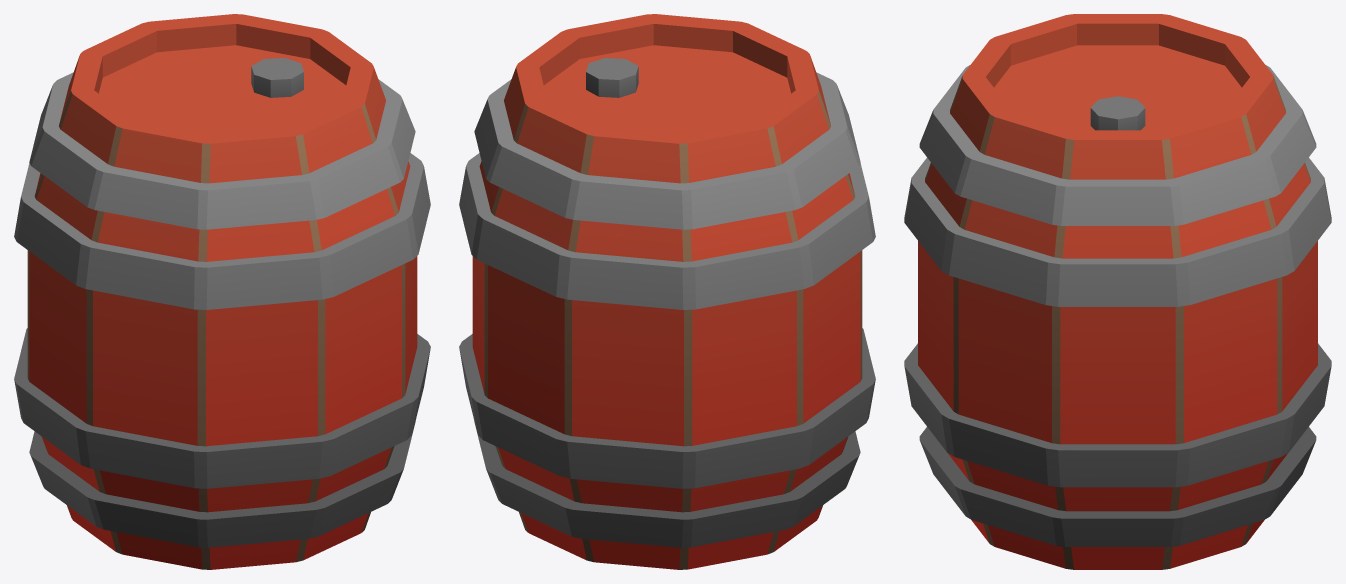
Rendered from barrel-2.glb.
3 views of the same model, side by side, from view 1: azimuth 30°, elevation 25°; view 2: azimuth 150°, elevation 25°; view 3: azimuth 270°, elevation 25° (orthographic).
Visible parts, largest first — view 1: barrel 2; view 2: barrel 2; view 3: barrel 2.
Part boxes in pixels (box(x1,y1,x2,y2)): barrel 2: box(14, 14, 430, 569); barrel 2: box(459, 14, 875, 569); barrel 2: box(904, 14, 1331, 569).
Size of the model in its own units: 0.7838 by 0.9065 by 0.8161.
Materials: 1 (1 with a texture image).
